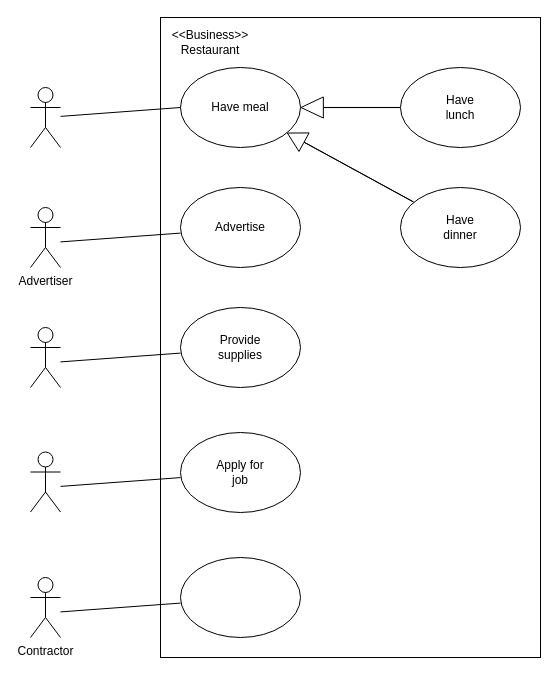
Some shapes in this 558 by 676 pixel diagram are drawn without their labels. The shapes that lost their labels are listed below. From the top down, each one's centre as x and y in pixels, then its label:
point (45, 117): Customer
point (45, 357): Supplier
point (45, 481): Candidate
point (240, 597): Repair appliances
